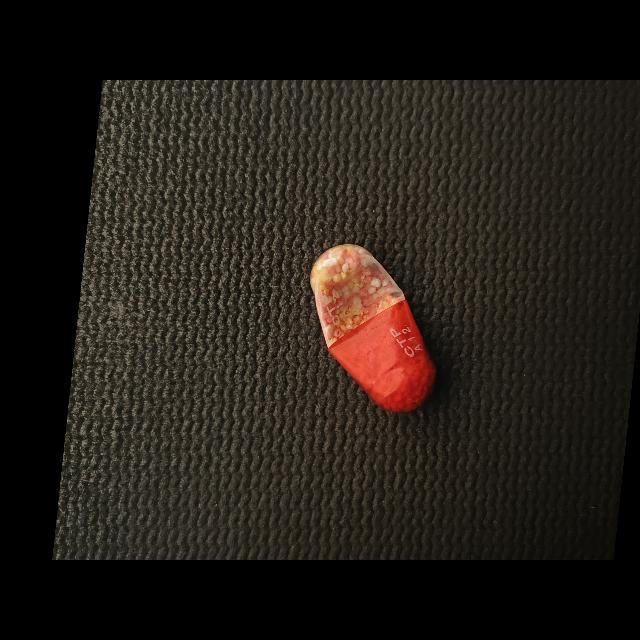Defective Capsule: (310, 244, 437, 412)
